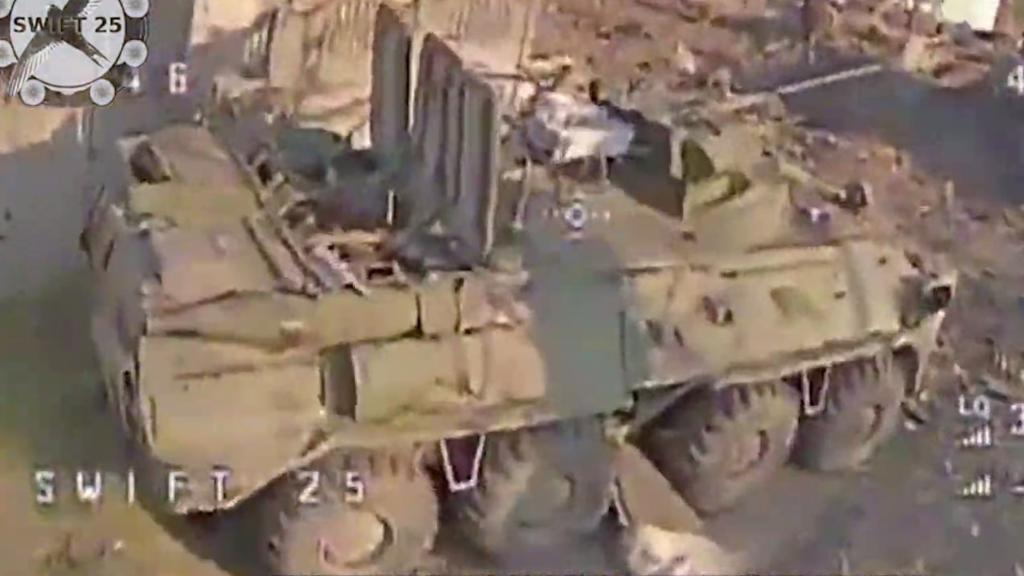APC-IFV: (87, 50, 955, 567)
